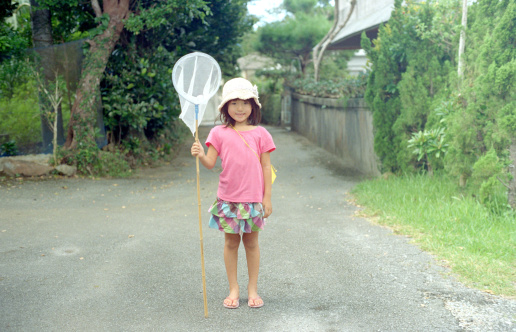em pe: (197, 80, 276, 317)
